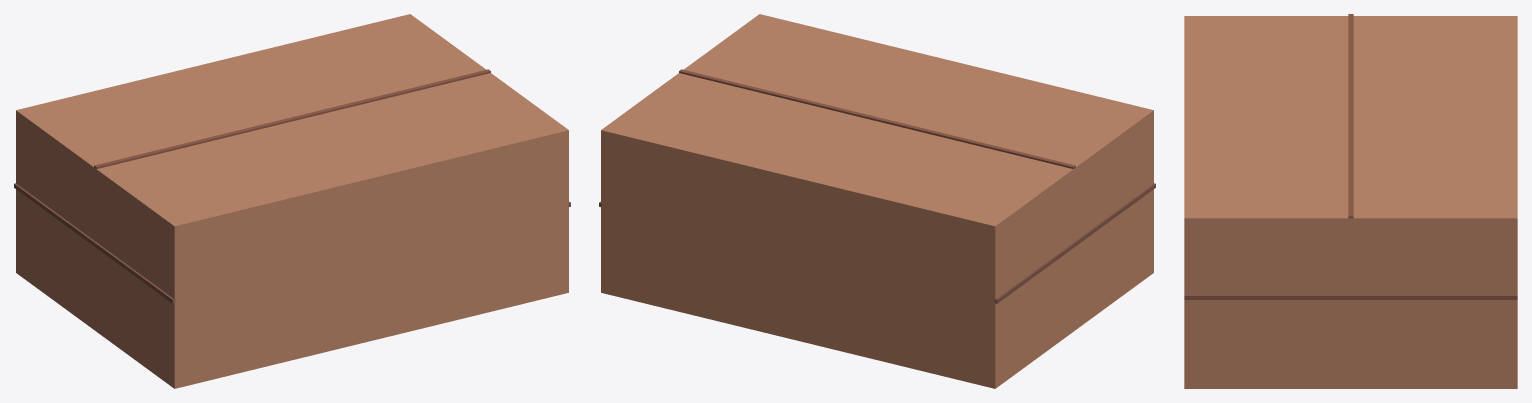
File: terrain-ruin-step-c48a6b.glb
3 views of the same model, side by side, from view 1: azimuth 30°, elevation 25°; view 2: azimuth 150°, elevation 25°; view 3: azimuth 270°, elevation 25° (orthographic). The views are drawn at different scales.
Visible parts, largest first — view 1: terrain-ruin-step-c48a6b; view 2: terrain-ruin-step-c48a6b; view 3: terrain-ruin-step-c48a6b.
Boxes of the visible parts, x1,y1,x2,y2 form: terrain-ruin-step-c48a6b: (14, 14, 570, 388); terrain-ruin-step-c48a6b: (599, 14, 1155, 388); terrain-ruin-step-c48a6b: (1184, 14, 1517, 388).
Bounding box in the file's own units: 1.67 × 0.6575 × 1.15.
